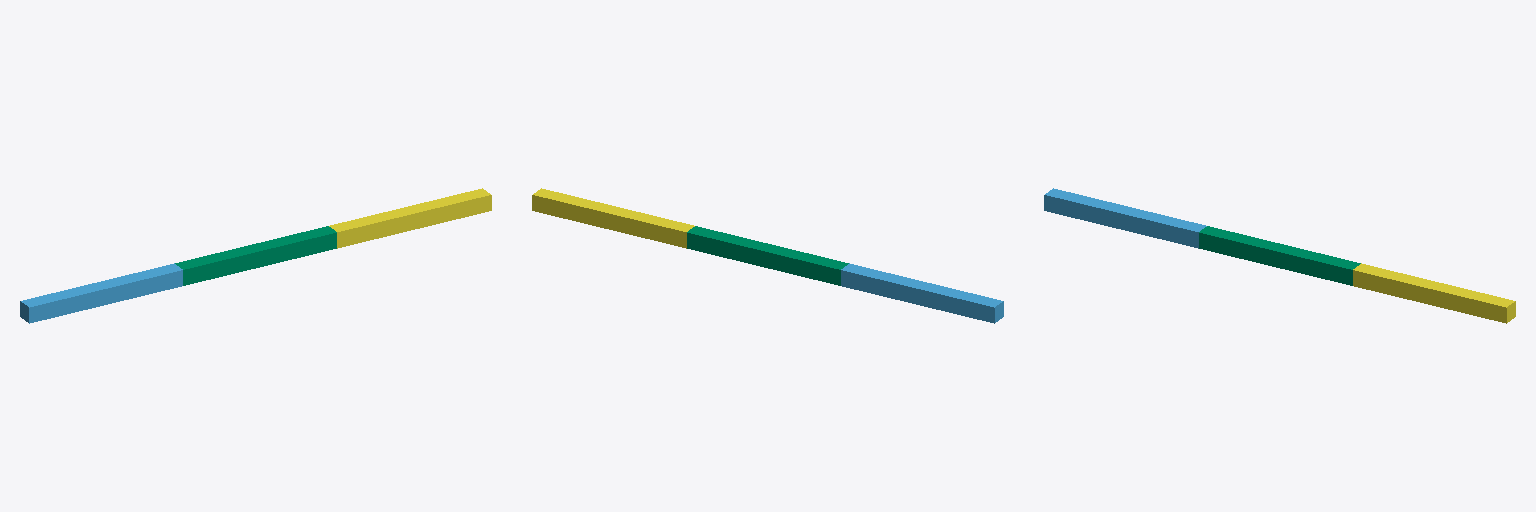
URDF robot description (three_revolute_planar):
<?xml version="1.0" encoding="utf-8"?>
<robot name="three_revolute_planar">
  <!-- Inertia box Ixx = 1/12 * (ly*2 + lh*2)-->

  <link name="base">
    <inertial>
      <origin xyz="0 0 0" rpy="0 0 0" />
      <mass value="1E-6" />
      <inertia ixx="0.0" ixy="0.0" ixz="0.0" iyy="0.0" iyz="0.0" izz="0.0" />
    </inertial>
  </link>

  <joint name="link_base_0_joint" type="revolute">
    <origin rpy="0 0 0" xyz="0 0 0"/>
    <parent link="base"/>
    <child link="link_0"/>
    <axis xyz="0 1 0"/>
    <limit effort="1000" lower="-30.14" upper="30.14" velocity="1.0"/>
  </joint>

  <link name="link_0">
    <inertial>
      <origin xyz="0.5 0.0 0.0" rpy="0 0 0" />
      <mass value="1.0" />
      <inertia ixx="0.001667" ixy="0.0" ixz="0.0" iyy="0.0841667" iyz="0.0" izz="0.084167" />
    </inertial>
    <visual>
      <origin xyz="0.5 0.0 0.0" rpy="0 0 0"/>
      <geometry>
        <box size="1.0 0.1 0.1"/>
      </geometry>
    </visual>
    <collision>
      <origin xyz="0.5 0.0 0.0" rpy="0 0 0"/>
      <geometry>
        <box size="1 0.1 0.1"/>
      </geometry>
    </collision>
  </link>

  <joint name="link_0_1_joint" type="revolute">
    <origin rpy="0 0 0" xyz="1.0 0.0 0.0"/>
    <parent link="link_0"/>
    <child link="link_1"/>
    <axis xyz="0 1 0"/>
    <limit effort="1000" lower="-30.14" upper="30.14" velocity="1.0"/>
  </joint>

  <link name="link_1">
    <inertial>
      <origin xyz="0.5 0.0 0.0" rpy="0 0 0" />
      <mass value="1.0" />
      <inertia ixx="0.001667" ixy="0.0" ixz="0.0" iyy="0.0841667" iyz="0.0" izz="0.084167" />
    </inertial>
    <visual>
      <origin xyz="0.5 0.0 0.0" rpy="0 0 0"/>
      <geometry>
        <box size="1 0.1 0.1"/>
      </geometry>
    </visual>
    <collision>
      <origin xyz="0.5 0.0 0.0" rpy="0 0 0"/>
      <geometry>
        <box size="1 0.1 0.1"/>
      </geometry>
    </collision>
  </link>

  <joint name="link_1_2_joint" type="revolute">
    <origin rpy="0 0 0" xyz="1.0 0.0 0.0"/>
    <parent link="link_1"/>
    <child link="link_2"/>
    <axis xyz="0 1 0"/>
    <limit effort="1000" lower="-30.14" upper="30.14" velocity="1.0"/>
  </joint>


  <link name="link_2">
    <inertial>
      <origin xyz="0.5 0.0 0.0" rpy="0 0 0" />
      <mass value="1.0" />
      <inertia ixx="0.001667" ixy="0.0" ixz="0.0" iyy="0.0841667" iyz="0.0" izz="0.084167" />
    </inertial>
    <visual>
      <origin xyz="0.5 0.0 0.0" rpy="0 0 0"/>
      <geometry>
        <box size="1 0.1 0.1"/>
      </geometry>
    </visual>
    <collision>
      <origin xyz="0.5 0.0 0.0" rpy="0 0 0"/>
      <geometry>
        <box size="1 0.1 0.1"/>
      </geometry>
    </collision>
  </link>

  <joint name="ee_joint" type="fixed">
    <origin rpy="0 0 0" xyz="1.0 0.0 0"/>
    <parent link="link_2"/>
    <child link="ee"/>
    <axis xyz="1 0 0"/>
  </joint>

  <link name="ee">
    <inertial>
      <origin xyz="0 0 0" rpy="0 0 0" />
      <mass value="1E-6" />
      <inertia ixx="1E-6" ixy="0" ixz="0" iyy="1E-6" iyz="0" izz="1E-6" />
    </inertial>
  </link>

</robot>

--- Facts derived from the render (not from the file) ---
Views: 3 orthographic renders of the robot side by side, from view 1: azimuth 30°, elevation 25°; view 2: azimuth 150°, elevation 25°; view 3: azimuth 330°, elevation 25°.
Model three_revolute_planar with 5 links and 4 joints (3 revolute, 1 fixed), rooted at base, posed all joints at 0.
Visible links, largest first — view 1: link_0, link_2, link_1; view 2: link_0, link_2, link_1; view 3: link_2, link_0, link_1.
Boxes of the visible links, left/top/right/bottom form: link_0: left=20, top=263, right=182, bottom=323; link_2: left=329, top=188, right=491, bottom=248; link_1: left=175, top=226, right=336, bottom=285; link_0: left=841, top=263, right=1003, bottom=323; link_2: left=532, top=188, right=694, bottom=248; link_1: left=687, top=226, right=848, bottom=285; link_2: left=1353, top=263, right=1515, bottom=323; link_0: left=1044, top=188, right=1206, bottom=248; link_1: left=1199, top=226, right=1360, bottom=285.
Bounding box of the posed robot: 3 × 0.1 × 0.1 m (x, y, z).
Geometry: primitives only (box / cylinder / sphere), no mesh files.